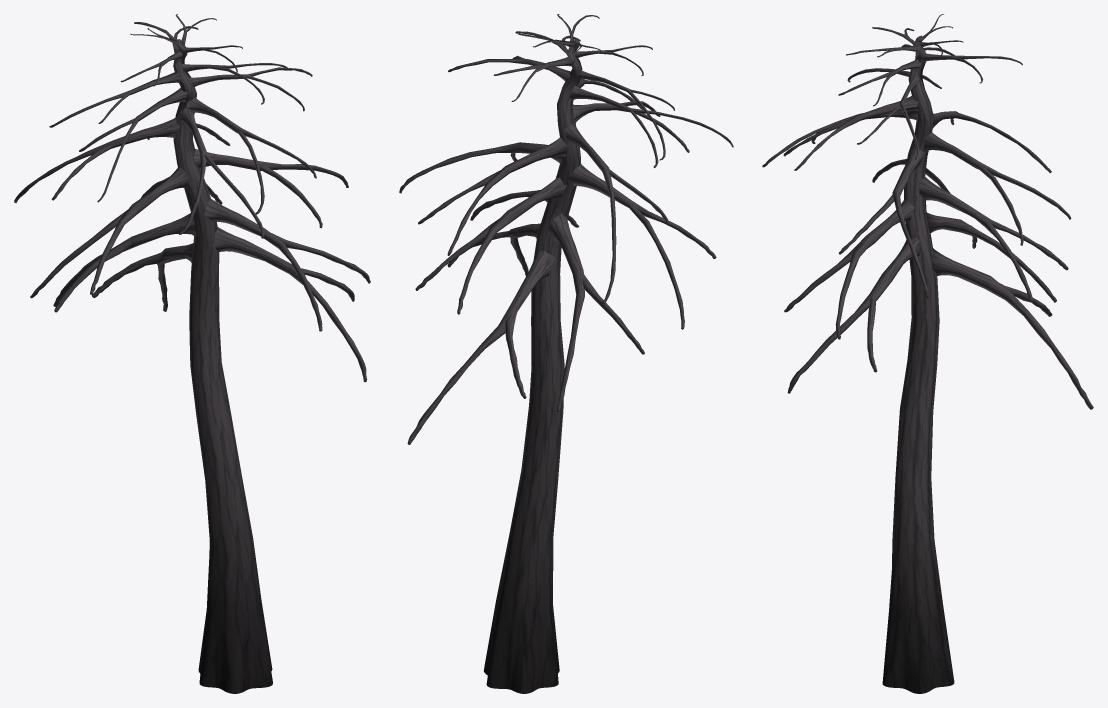
File: DeadTree_3.gltf
The picture shows the model from 3 angles, left to right: view 1: azimuth 30°, elevation 25°; view 2: azimuth 150°, elevation 25°; view 3: azimuth 270°, elevation 25°; orthographic projection. The views are drawn at different scales.
Visible parts, largest first — view 1: DeadTree_3; view 2: DeadTree_3; view 3: DeadTree_3.
Boxes of the visible parts, x1,y1,x2,y2 form: DeadTree_3: (14, 14, 370, 693); DeadTree_3: (399, 14, 733, 693); DeadTree_3: (762, 14, 1093, 693).
Size of the model in its own units: 6.39 by 13.28 by 6.43.
Materials: 1 (1 with a texture image).
